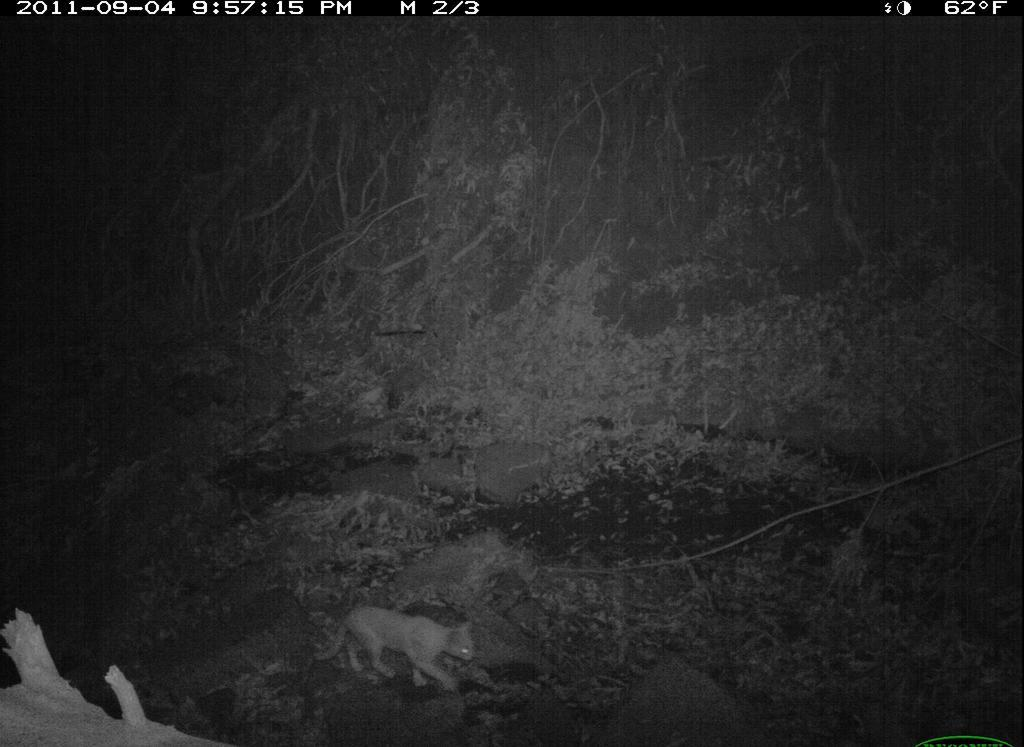cat: (313, 600, 487, 696)
